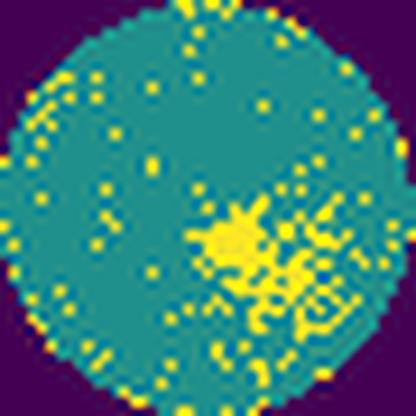Loc: (185, 188, 361, 340)
